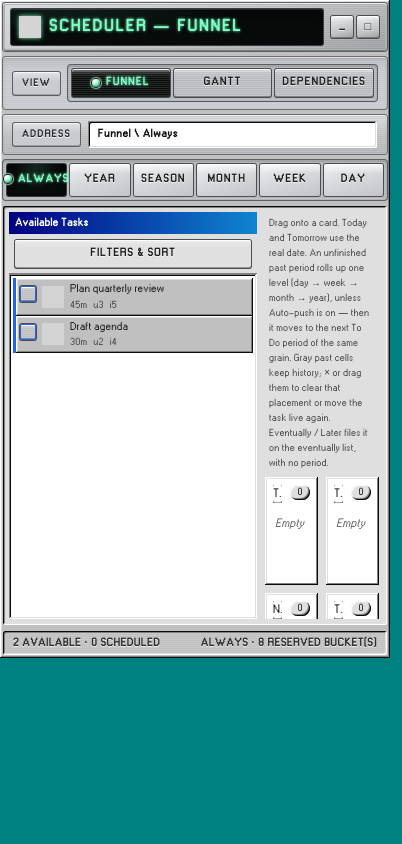
Test case: EnhancedScheduler › hides period tabs when a document view is selected
Click the button "Gantt": click(222, 83) [174,69,271,97]
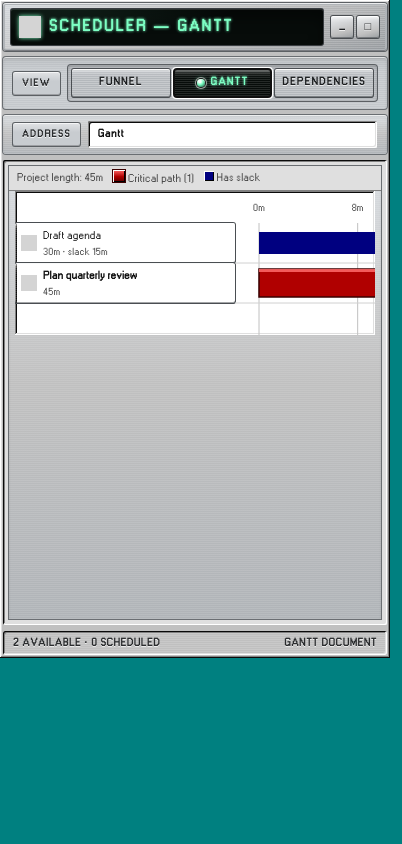
Check: the element named "Scheduler view" is shown, box [3,57,387,109]
Check: the heading "Scheduler — Gantt" is shown, box [49,15,234,39]
